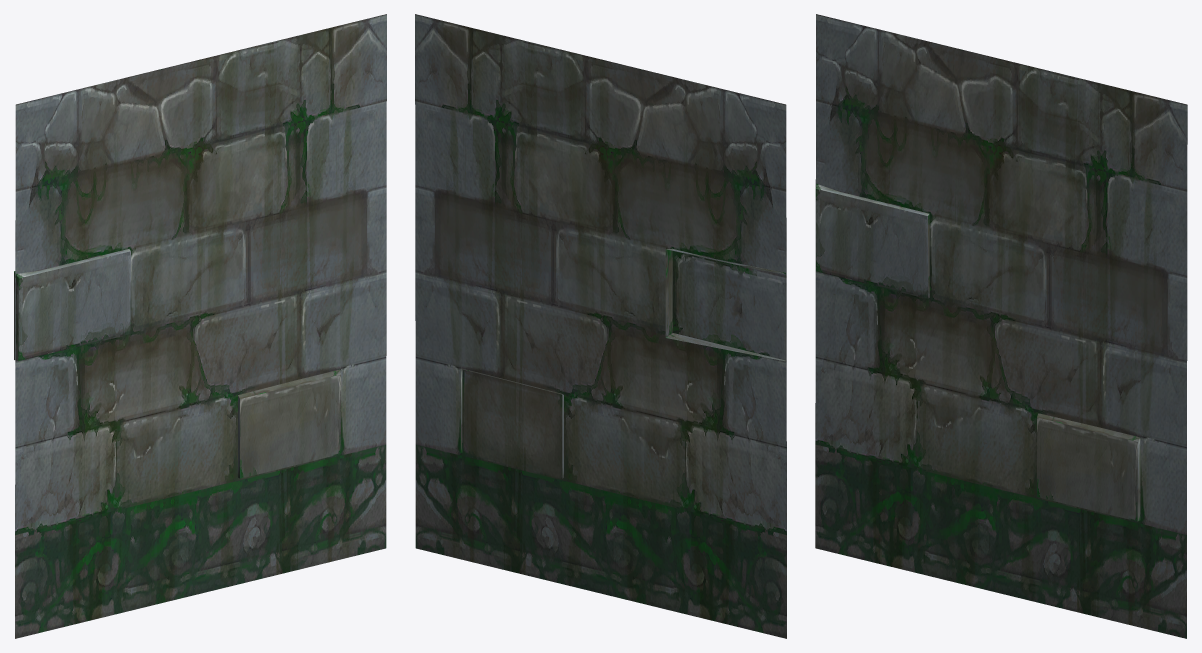
File: stemple_wall_straight_09.fbx
The picture shows the model from 3 angles, left to right: view 1: azimuth 30°, elevation 25°; view 2: azimuth 150°, elevation 25°; view 3: azimuth 330°, elevation 25°; orthographic projection.
Visible parts, largest first — view 1: stemple_wall_straight_09-0; view 2: stemple_wall_straight_09-0; view 3: stemple_wall_straight_09-0.
Boxes of the visible parts, left/top/right/bottom form: stemple_wall_straight_09-0: left=14, top=14, right=386, bottom=638; stemple_wall_straight_09-0: left=415, top=14, right=786, bottom=638; stemple_wall_straight_09-0: left=815, top=14, right=1187, bottom=638.
Size of the model in its own units: 4.01 by 5.5 by 0.1653.
